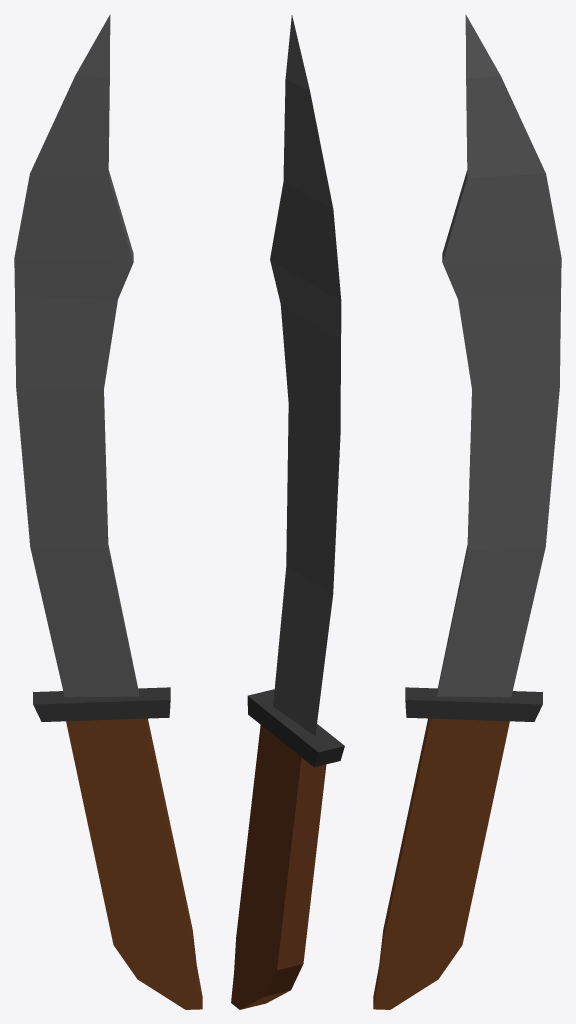
Rendered from Scimitar.glb.
3 renders of one model, left to right at view 1: azimuth 90°, elevation 25°; view 2: azimuth 210°, elevation 25°; view 3: azimuth 270°, elevation 25°, orthographic. The views are drawn at different scales.
Visible parts, largest first — view 1: Plane; view 2: Plane; view 3: Plane.
Boxes of the visible parts, <box> form: Plane: <box>14,14,202,1009</box>; Plane: <box>231,15,344,1009</box>; Plane: <box>373,14,561,1009</box>.
Size of the model in its own units: 0.1783 by 6.57 by 1.13.
1 material, 1 textured.
